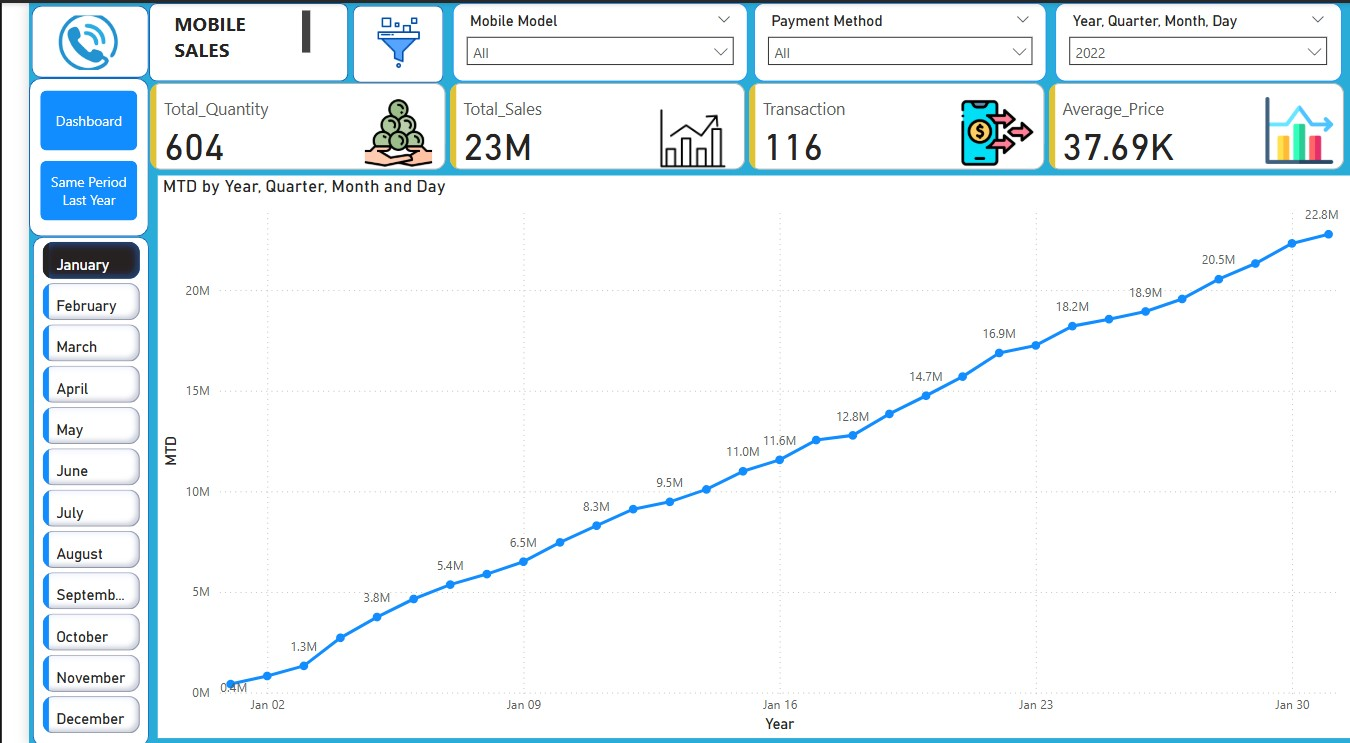

The dashboard page shown, as its layout file describes it:
{"tool":"powerbi","page":{"name":"MTD Report","canvas":[1280,720],"ordinal":1},"visuals":[{"type":"shape","box":[2.4,2.4,113.8,70.2],"z":0},{"type":"image","box":[20.6,4.8,73.8,67.8],"z":1000},{"type":"shape","box":[0,72.6,116.2,153.7],"z":2000},{"type":"cardVisual","fields":{"Data":["Sales_Data.Total_Quantity","Sales_Data.Total_Sales","Sales_Data.Transaction","Sales_Data.Average_Price"]},"box":[112.6,72.6,1166.9,94.4],"z":3000},{"type":"slicer","fields":{"Values":["Sales_Data.Mobile Model"]},"box":[410.4,0,285.7,76.3],"z":4000},{"type":"slicer","fields":{"Values":["Custom_Calendar.Date.Variation.Date Hierarchy.Year","Custom_Calendar.Date.Variation.Date Hierarchy.Quarter","Custom_Calendar.Date.Variation.Date Hierarchy.Month","Custom_Calendar.Date.Variation.Date Hierarchy.Day"]},"box":[993.8,0,277.2,76.3],"z":5000},{"type":"slicer","fields":{"Values":["Sales_Data.Payment Method"]},"box":[702.1,0,283.3,76.3],"z":6000},{"type":"shape","box":[313.5,2.4,88.4,75.1],"z":7000},{"type":"image","box":[323.2,8.5,70.2,60.5],"z":8000},{"type":"shape","box":[116.2,0,193.7,76.3],"z":9000},{"type":"textbox","box":[135.6,2.4,141.6,65.4],"z":10000},{"type":"lineChart","fields":{"Y":["Sales_Data.MTD"],"Category":["Custom_Calendar.Date.Variation.Date Hierarchy.Year","Custom_Calendar.Date.Variation.Date Hierarchy.Quarter","Custom_Calendar.Date.Variation.Date Hierarchy.Month","Custom_Calendar.Date.Variation.Date Hierarchy.Day"]},"box":[124.7,167,1156,544.7],"z":11000},{"type":"shape","box":[3.6,226.1,112.6,493.9],"z":12000},{"type":"advancedSlicerVisual","fields":{"Values":["Custom_Calendar.Date.Variation.Date Hierarchy.Month"]},"box":[8.5,226.4,104.1,493.9],"z":13000},{"type":"pageNavigator","box":[10.9,84.7,94.4,127.1],"z":14000}]}

Visuals, with their boxes in screenshot pixels (x1, y1, x2, y2), scaled from the page's 1280x720 canvas onto the 1350x743 screenshot:
shape: pyautogui.locateOnScreen(3, 2, 123, 75)
image: pyautogui.locateOnScreen(22, 5, 100, 75)
shape: pyautogui.locateOnScreen(0, 75, 123, 234)
cardVisual - Sales_Data.Total_Quantity x Sales_Data.Total_Sales: pyautogui.locateOnScreen(119, 75, 1349, 172)
slicer - Sales_Data.Mobile Model: pyautogui.locateOnScreen(433, 0, 734, 79)
slicer - Custom_Calendar.Date.Variation.Date Hierarchy.Year x Custom_Calendar.Date.Variation.Date Hierarchy.Quarter: pyautogui.locateOnScreen(1048, 0, 1341, 79)
slicer - Sales_Data.Payment Method: pyautogui.locateOnScreen(740, 0, 1039, 79)
shape: pyautogui.locateOnScreen(331, 2, 424, 80)
image: pyautogui.locateOnScreen(341, 9, 415, 71)
shape: pyautogui.locateOnScreen(123, 0, 327, 79)
textbox: pyautogui.locateOnScreen(143, 2, 292, 70)
lineChart - Sales_Data.MTD x Custom_Calendar.Date.Variation.Date Hierarchy.Year: pyautogui.locateOnScreen(132, 172, 1349, 734)
shape: pyautogui.locateOnScreen(4, 233, 123, 742)
advancedSlicerVisual - Custom_Calendar.Date.Variation.Date Hierarchy.Month: pyautogui.locateOnScreen(9, 234, 119, 742)
pageNavigator: pyautogui.locateOnScreen(11, 87, 111, 219)
